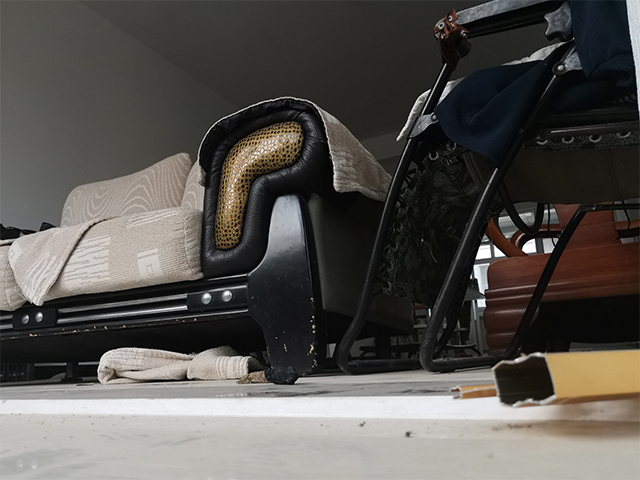feces: (232, 370, 267, 385)
sofa: (1, 93, 393, 386)
stool: (330, 1, 640, 376)
